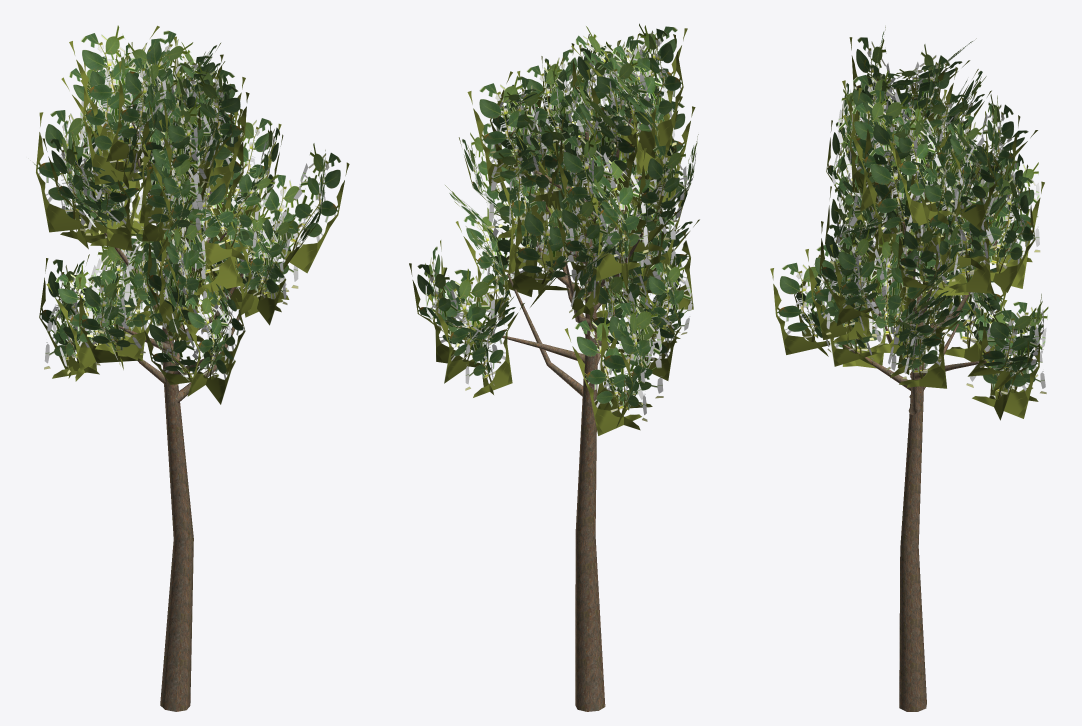
The model's file is tree_birch.glb.
3 renders of one model, left to right at view 1: azimuth 30°, elevation 25°; view 2: azimuth 150°, elevation 25°; view 3: azimuth 270°, elevation 25°, orthographic. The views are drawn at different scales.
Parts seen in each view (by area): view 1: foliage, trunk; view 2: foliage, trunk; view 3: foliage, trunk.
Boxes of the visible parts, box(x1,y1,x2,y2) form: foliage: box(33, 25, 349, 404); trunk: box(104, 122, 252, 711); foliage: box(409, 23, 699, 435); trunk: box(493, 114, 643, 711); foliage: box(770, 26, 1048, 420); trunk: box(843, 117, 1000, 711).
Size of the model in its own units: 4.94 by 11.88 by 5.22.
Materials: 2 (2 with a texture image).
